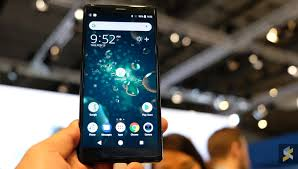sony: (71, 1, 165, 165)
